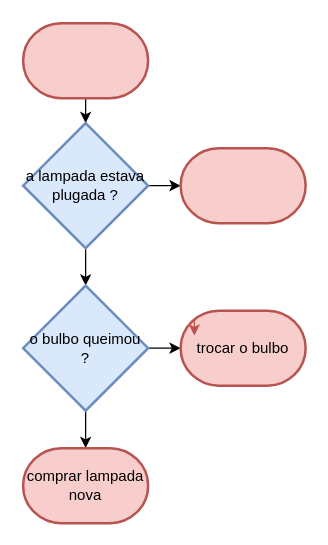
Image size: 328x545. Some labels were removed from this diagram. Each missing label, with the box of its shape:
a lâmpada não funciona: (21, 21, 149, 99)
plugar a lampada: (179, 146, 306, 224)
